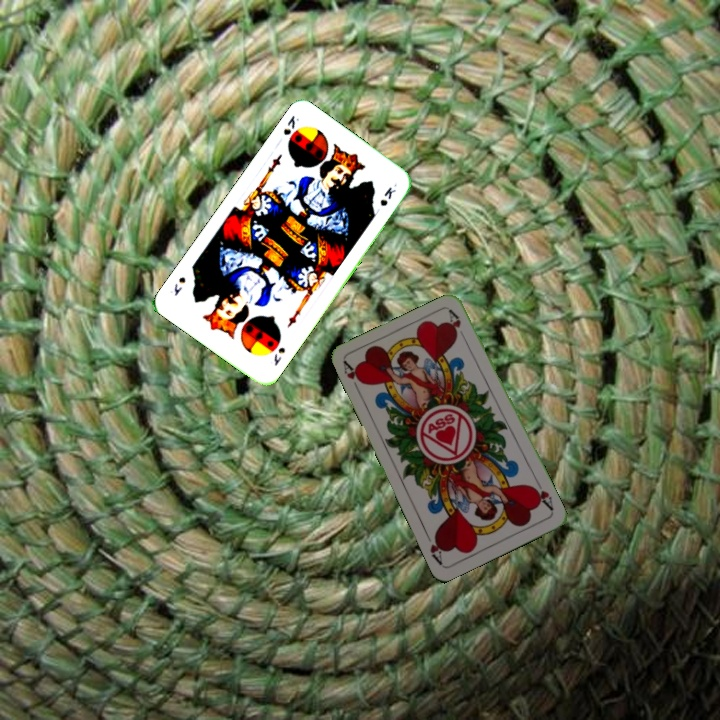HA: (339, 358, 367, 397), (527, 476, 556, 513)
SK: (279, 111, 302, 138), (269, 343, 288, 368)
